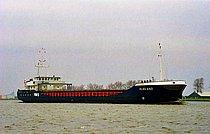Ship: (15, 73, 190, 107)
